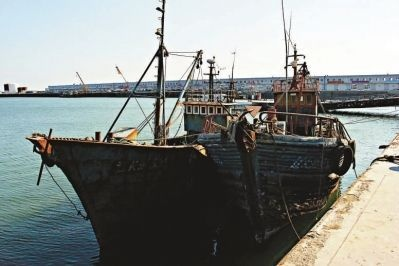otherboat: (28, 41, 357, 262)
